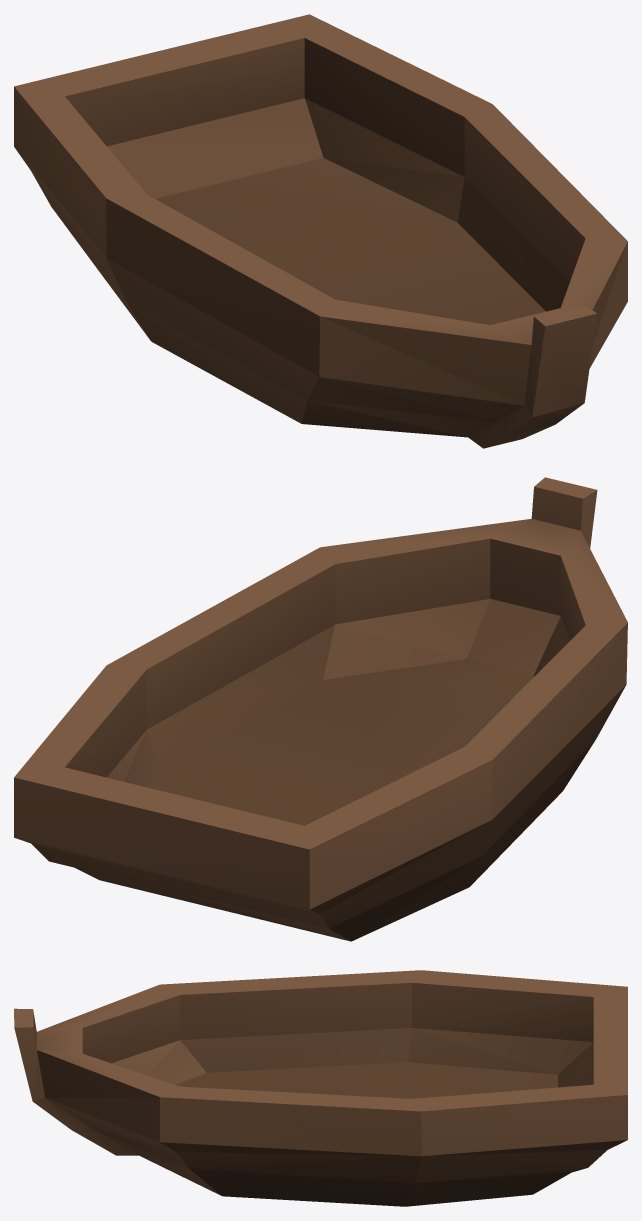
Rendered from boat-row.glb.
3 renders of one model, top to bottom at view 1: azimuth 30°, elevation 25°; view 2: azimuth 150°, elevation 25°; view 3: azimuth 270°, elevation 25°, orthographic. The views are drawn at different scales.
Parts seen in each view (by area): view 1: boat-row; view 2: boat-row; view 3: boat-row.
Boxes of the visible parts, x1,y1,x2,y2 form: boat-row: (14, 14, 627, 448); boat-row: (14, 477, 627, 941); boat-row: (14, 970, 627, 1206).
Bounding box in the file's own units: 2.09 × 0.9 × 3.84.
